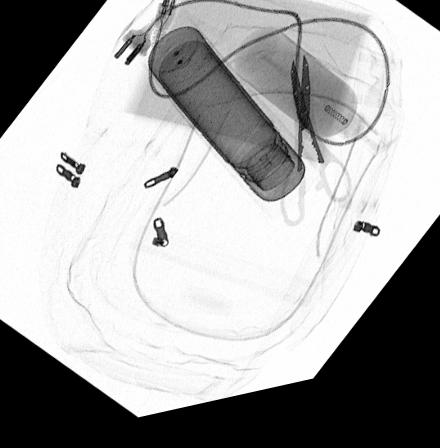Scissors: (280, 67, 352, 241)
